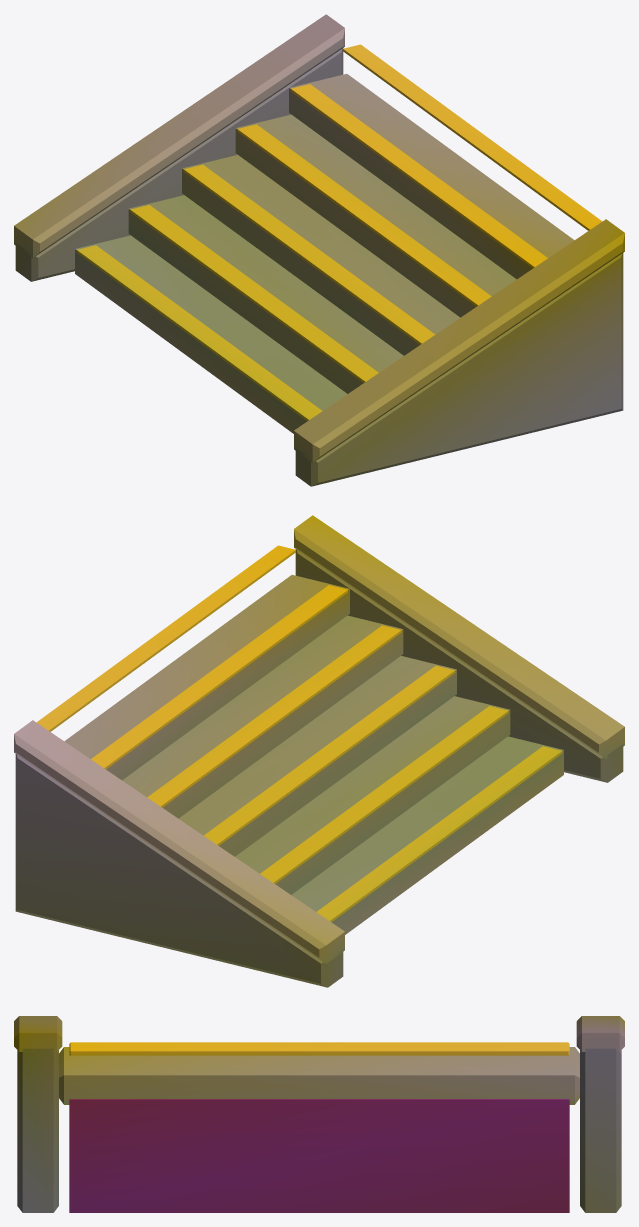
File: Platform_Stairs_Start.glb
3 views of the same model, one above another, from view 1: azimuth 30°, elevation 25°; view 2: azimuth 150°, elevation 25°; view 3: azimuth 270°, elevation 25° (orthographic).
Visible parts, largest first — view 1: Platform_Stairs_Start; view 2: Platform_Stairs_Start; view 3: Platform_Stairs_Start.
Boxes of the visible parts, x1,y1,x2,y2 form: Platform_Stairs_Start: (14, 14, 624, 486); Platform_Stairs_Start: (14, 515, 624, 987); Platform_Stairs_Start: (14, 1016, 624, 1212).
Size of the model in its own units: 2.16 by 1.15 by 3.54.
